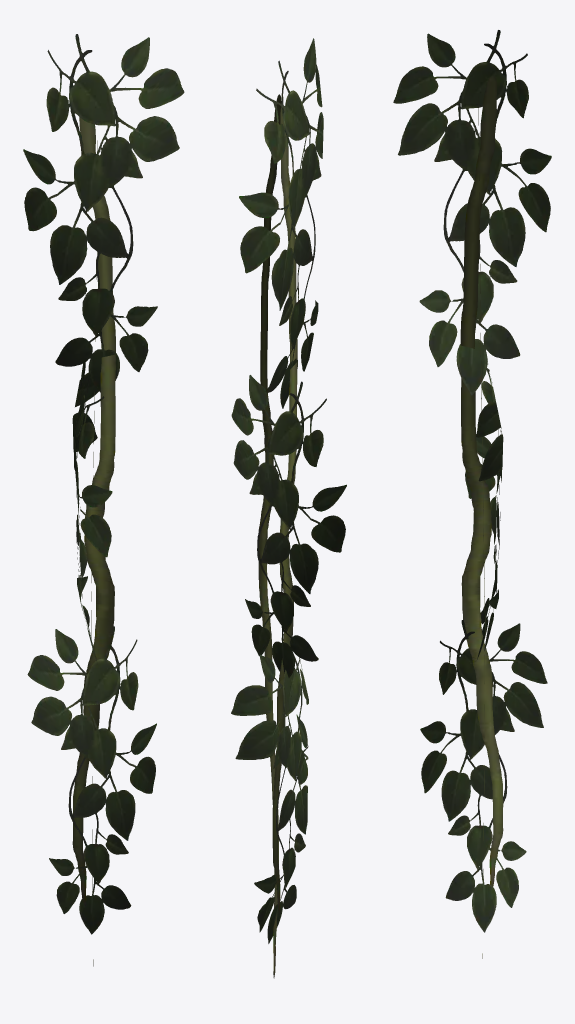
3 renders of one model, left to right at view 1: azimuth 90°, elevation 25°; view 2: azimuth 150°, elevation 25°; view 3: azimuth 270°, elevation 25°, orthographic.
Visible parts, largest first — view 1: body0_model0_lod0_mesh0; view 2: body0_model0_lod0_mesh0; view 3: body0_model0_lod0_mesh0.
Boxes of the visible parts, x1,y1,x2,y2 form: body0_model0_lod0_mesh0: (23,34,184,966); body0_model0_lod0_mesh0: (231,38,346,978); body0_model0_lod0_mesh0: (393,30,551,958).
Bounding box in the file's own units: 60.49 × 467 × 75.93.
1 material, 1 textured.
